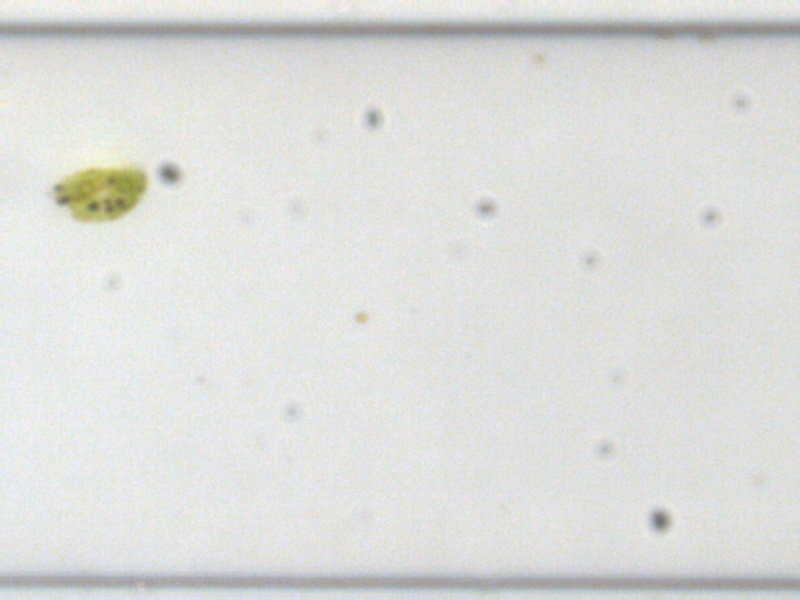Chlorella: (352, 310, 367, 323)
Haematococcus: (46, 159, 153, 230)
